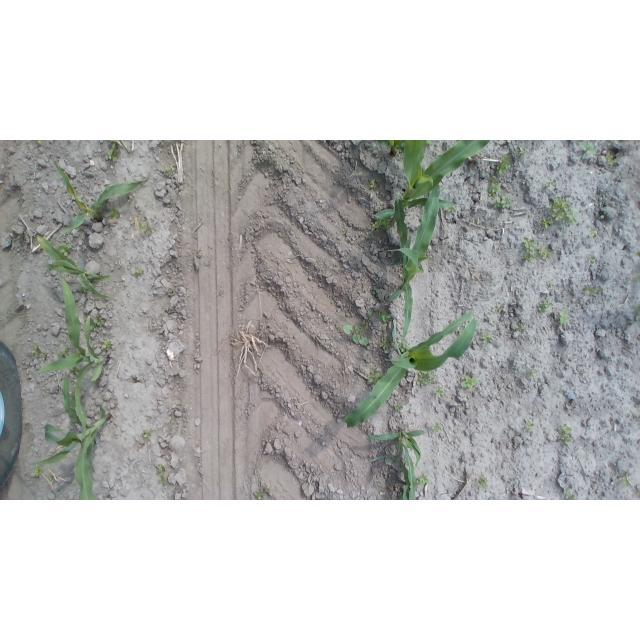Maize: (343, 310, 478, 429), (39, 276, 109, 429), (31, 368, 111, 500), (376, 140, 492, 229), (388, 184, 441, 348), (52, 160, 149, 238), (34, 235, 112, 302), (368, 440, 416, 500), (367, 428, 425, 471), (375, 140, 403, 158)
Weeds: (546, 195, 577, 226), (520, 237, 552, 263), (342, 324, 372, 346), (105, 140, 121, 162), (416, 370, 436, 387), (496, 155, 512, 175), (558, 424, 573, 445), (137, 220, 156, 236), (493, 196, 512, 212), (381, 140, 402, 154), (156, 464, 169, 485), (377, 307, 393, 324), (371, 220, 391, 233), (379, 335, 393, 353), (488, 178, 501, 197), (90, 315, 105, 331), (480, 332, 496, 347), (55, 243, 72, 257), (460, 376, 478, 389), (369, 369, 384, 384), (582, 141, 597, 156), (107, 204, 121, 220), (537, 300, 553, 313), (584, 285, 604, 295), (416, 473, 429, 488), (605, 152, 620, 165), (56, 345, 70, 358), (563, 488, 577, 501), (539, 216, 553, 228), (164, 164, 177, 176), (370, 286, 380, 301), (142, 429, 153, 441), (560, 309, 569, 323), (33, 466, 44, 477), (477, 478, 488, 489), (400, 341, 411, 352), (525, 420, 535, 432), (101, 340, 111, 351), (528, 369, 539, 379), (32, 345, 41, 357), (516, 148, 528, 157), (36, 140, 49, 148), (622, 477, 631, 488), (634, 303, 640, 319), (70, 368, 80, 377), (433, 388, 443, 397), (545, 179, 556, 187), (588, 254, 597, 263), (516, 324, 525, 333), (254, 492, 264, 500), (589, 229, 597, 239), (136, 268, 145, 276), (343, 228, 351, 237), (368, 180, 376, 189), (425, 140, 437, 146), (445, 207, 456, 213), (394, 404, 402, 412), (432, 424, 440, 432), (366, 310, 374, 317), (600, 212, 608, 219), (17, 234, 24, 241), (43, 352, 48, 361), (435, 153, 442, 159), (633, 275, 640, 281), (495, 305, 501, 311), (439, 179, 444, 186), (631, 321, 636, 328), (363, 236, 369, 241), (547, 284, 553, 289), (48, 476, 53, 481), (557, 392, 562, 397), (636, 251, 640, 257), (265, 488, 270, 492), (128, 198, 132, 202), (637, 491, 640, 496), (444, 360, 447, 364)
